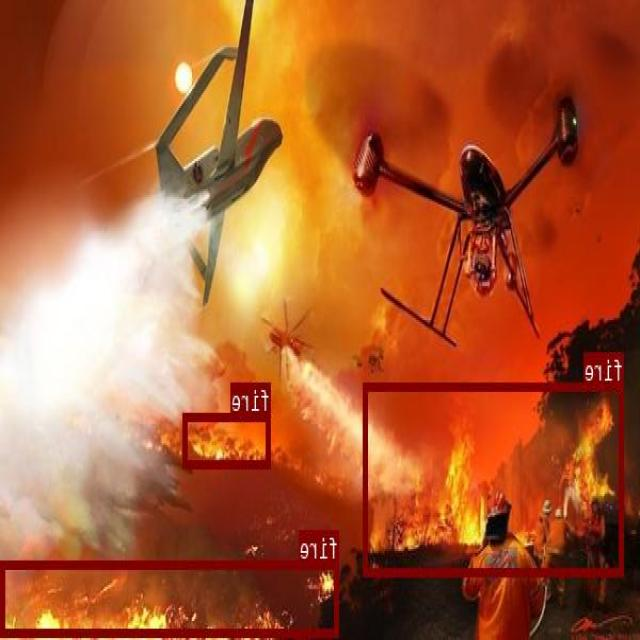fire: (364, 382, 625, 576), (1, 558, 339, 634), (185, 412, 272, 467)
